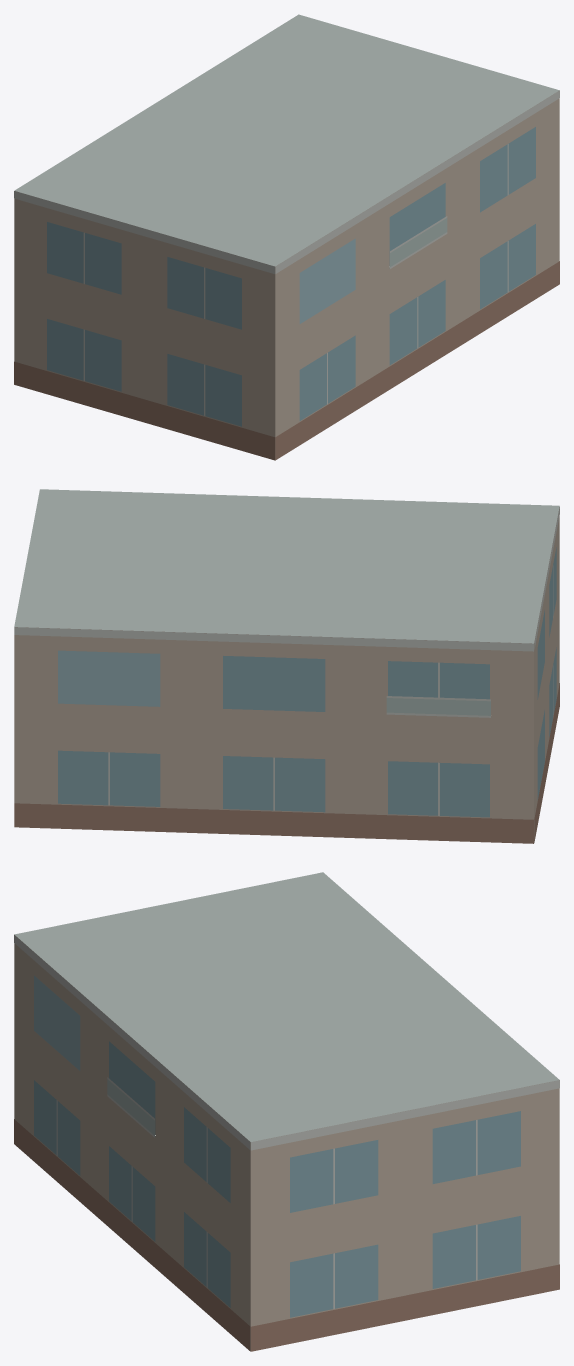
File: survey-upis-32777704.glb
3 renders of one model, top to bottom at view 1: azimuth 30°, elevation 25°; view 2: azimuth 150°, elevation 25°; view 3: azimuth 270°, elevation 25°, orthographic. The views are drawn at different scales.
Parts seen in each view (by area): view 1: survey-upis-32777704.tmp; view 2: survey-upis-32777704.tmp; view 3: survey-upis-32777704.tmp.
Part boxes in pixels (left/top/right/bottom): survey-upis-32777704.tmp: left=14, top=14, right=559, bottom=460; survey-upis-32777704.tmp: left=14, top=489, right=559, bottom=843; survey-upis-32777704.tmp: left=14, top=872, right=559, bottom=1351.
Bounding box in the file's own units: 16.87 × 6.1 × 14.41.
